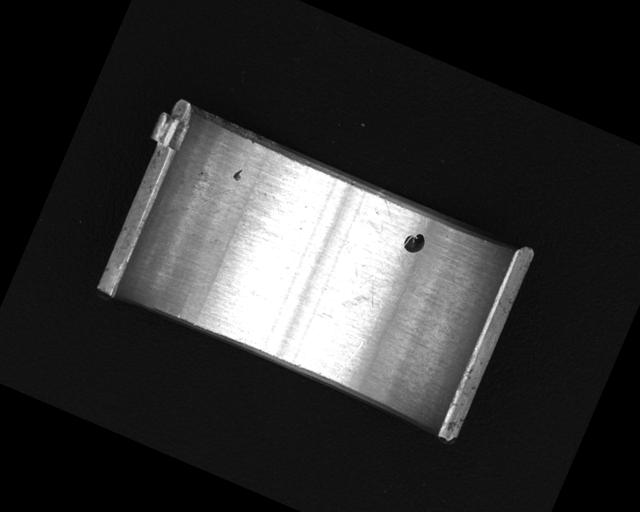blot: (336, 261, 403, 331), (400, 227, 428, 257)
bruise: (230, 166, 245, 184)
nick: (334, 334, 365, 381)
